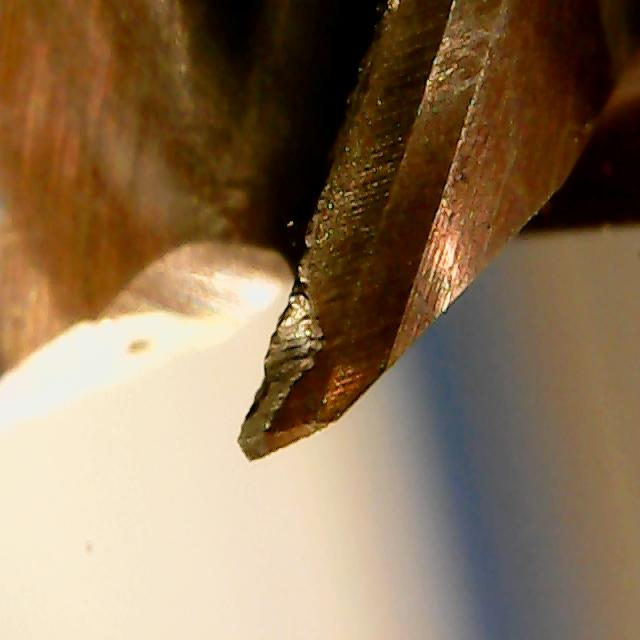Tool-wear-class-2: (211, 238, 404, 467)
